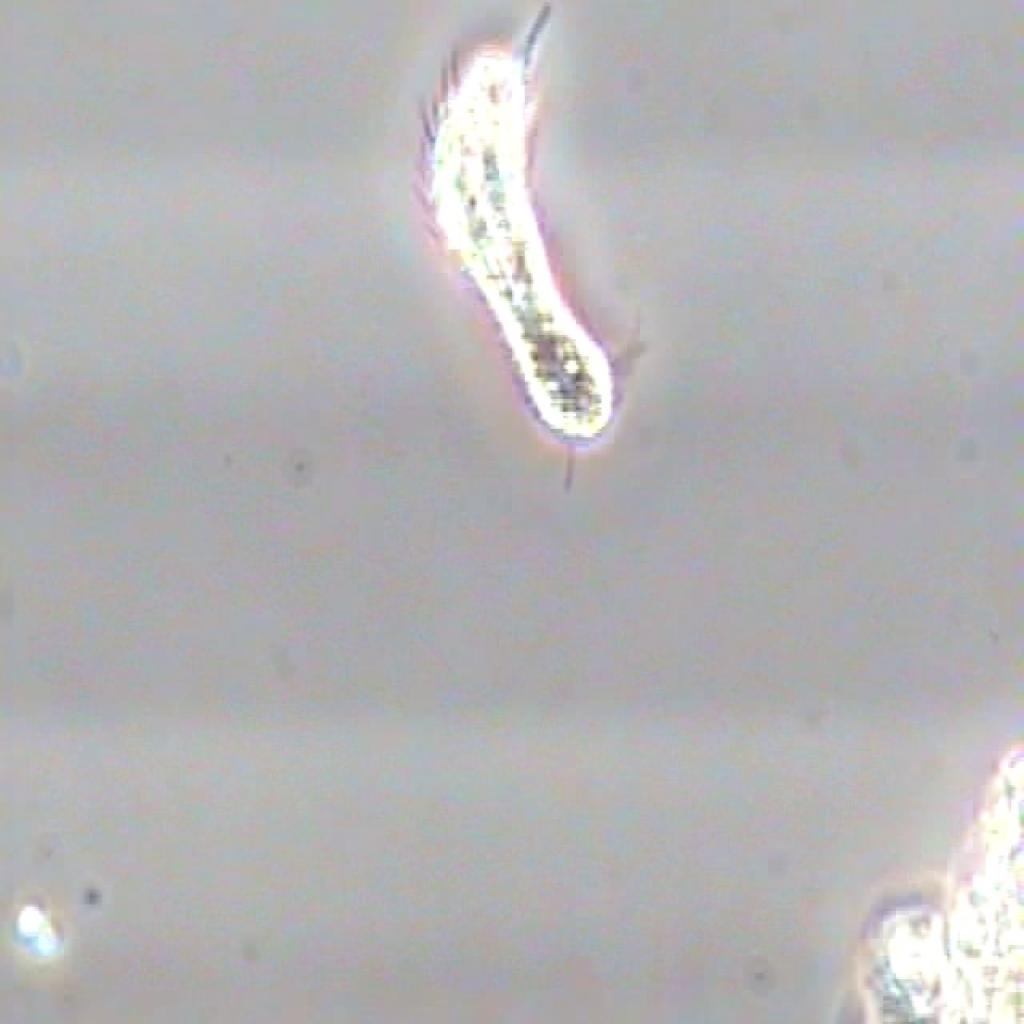Chaetonotus: (406, 0, 670, 495)
